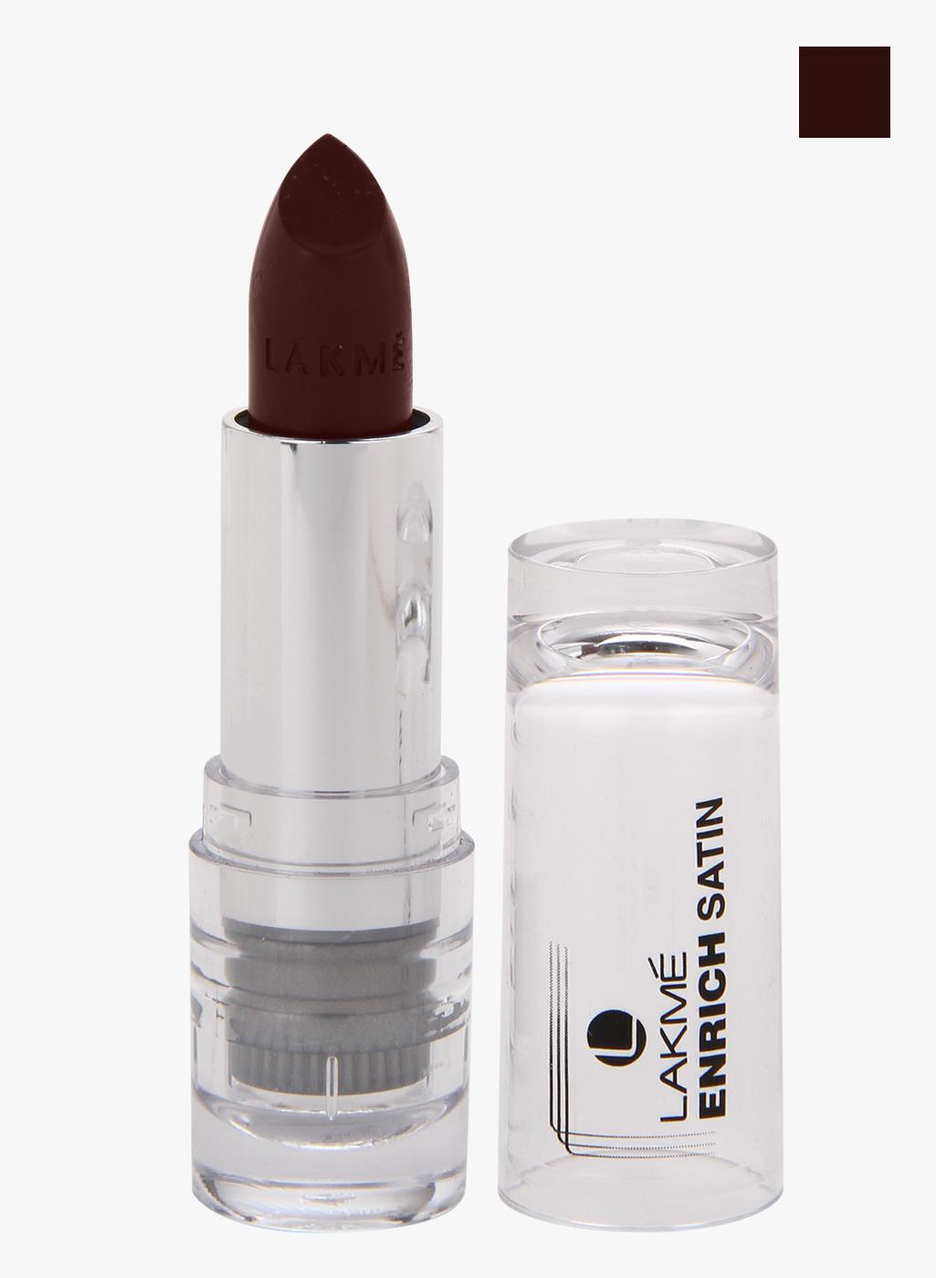lipstick: (157, 84, 514, 1278)
